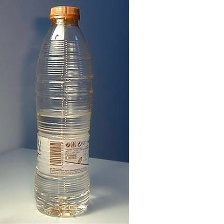bottle: (30, 3, 93, 218)
